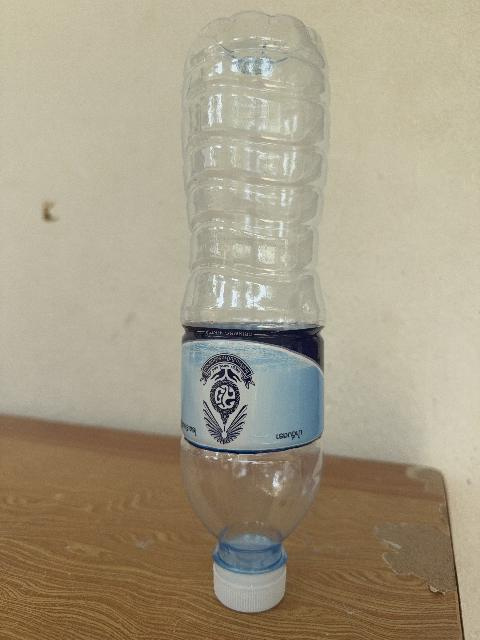bottle: (181, 12, 329, 611)
